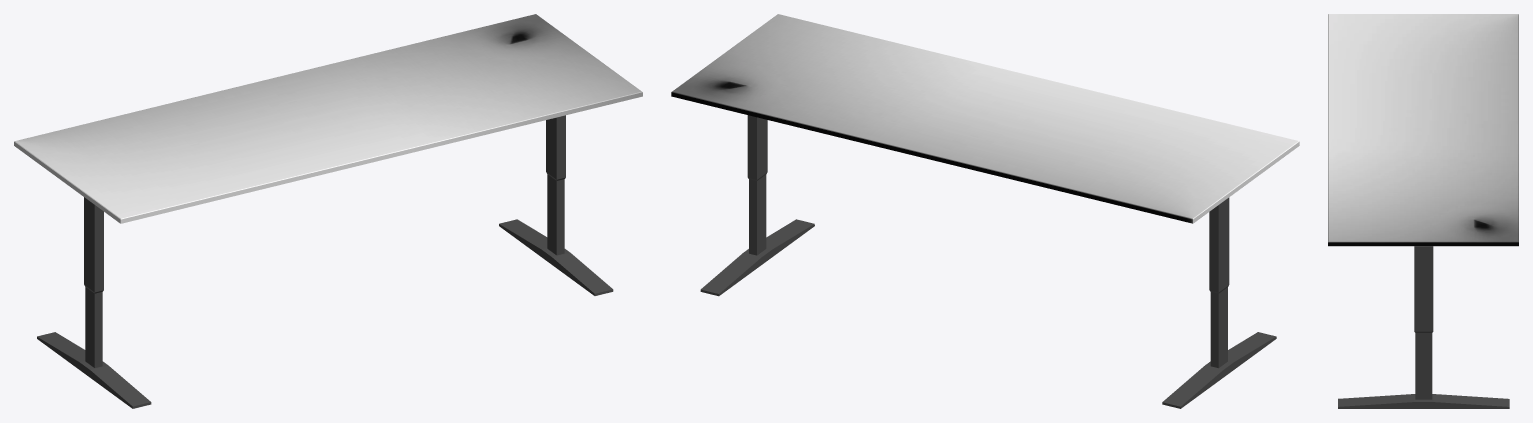
The model's file is desk-transformed.glb.
3 views of the same model, side by side, from view 1: azimuth 30°, elevation 25°; view 2: azimuth 150°, elevation 25°; view 3: azimuth 270°, elevation 25° (orthographic). The views are drawn at different scales.
Parts seen in each view (by area): view 1: Plane.016, Leg, Leg2; view 2: Plane.016, Leg, Leg2; view 3: Plane.016, Leg2.
Boxes of the visible parts, x1,y1,x2,y2 form: Plane.016: (14, 14, 642, 223); Leg: (37, 197, 151, 408); Leg2: (499, 115, 613, 295); Plane.016: (671, 14, 1299, 223); Leg: (1162, 197, 1276, 408); Leg2: (700, 115, 814, 296); Plane.016: (1328, 14, 1518, 246); Leg2: (1338, 246, 1509, 408).
Size of the model in its own units: 2.26 by 0.8205 by 0.8.
Materials: 2 (1 with a texture image).
